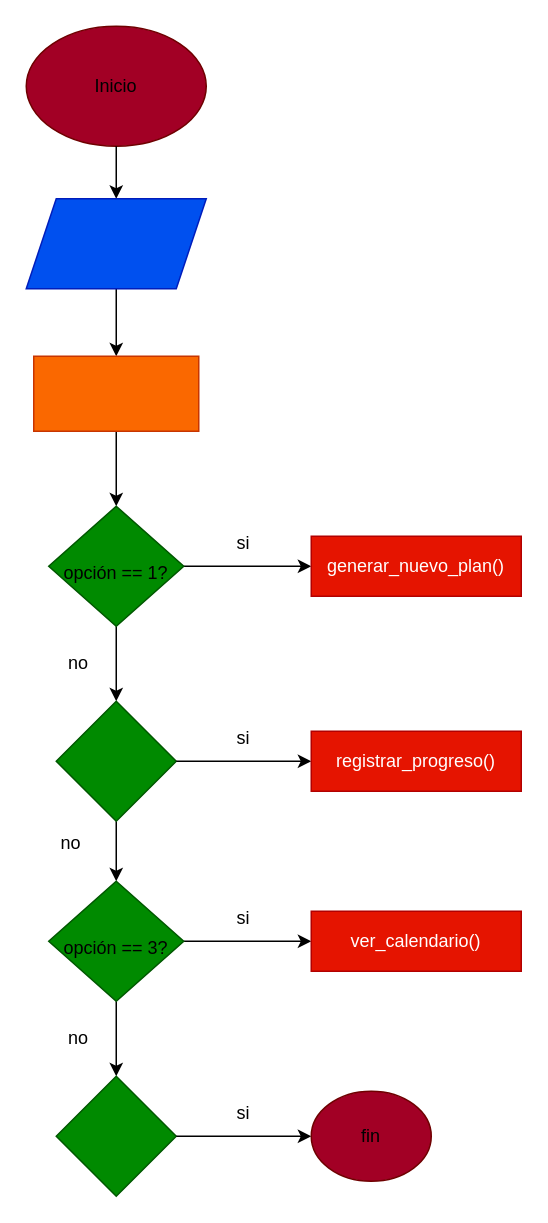
The diagram is 548 pixels wide and 1223 high, and some of its shapes have lost their labels. The shapes that lost their labels are listed below. From the top down, each one's centre as x and y in pixels, then its label:
At [115,243]: "Mostrar menú".
At [115,393]: "¿opcion?".
At [115,760]: "opción == 2?".
At [115,1135]: "opción == 4?".
